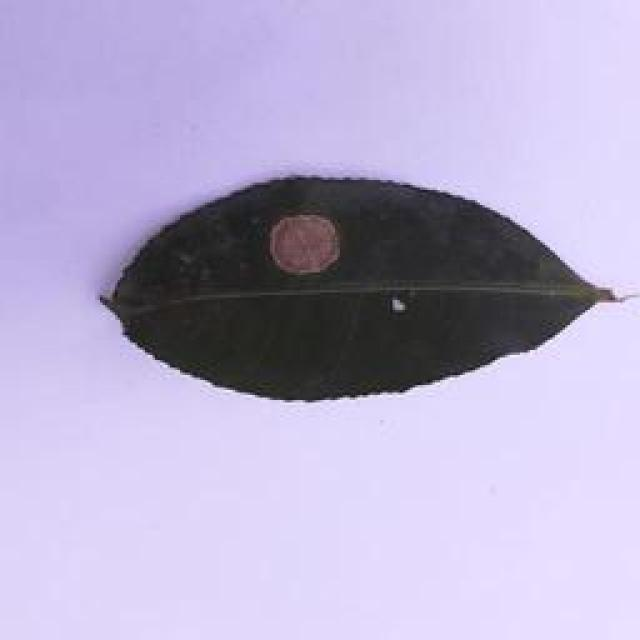Gray Blight: (85, 172, 640, 406)
